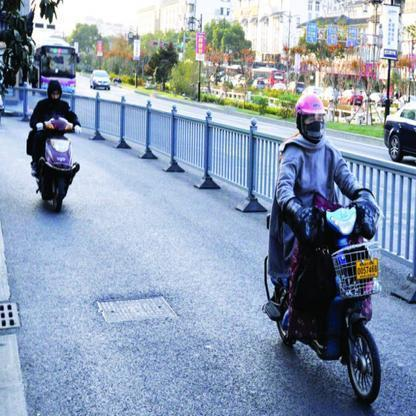target: (264, 90, 390, 408), (24, 76, 86, 213)
